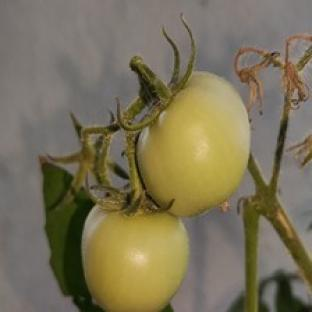Tomato: (137, 73, 250, 215), (83, 207, 189, 311)
